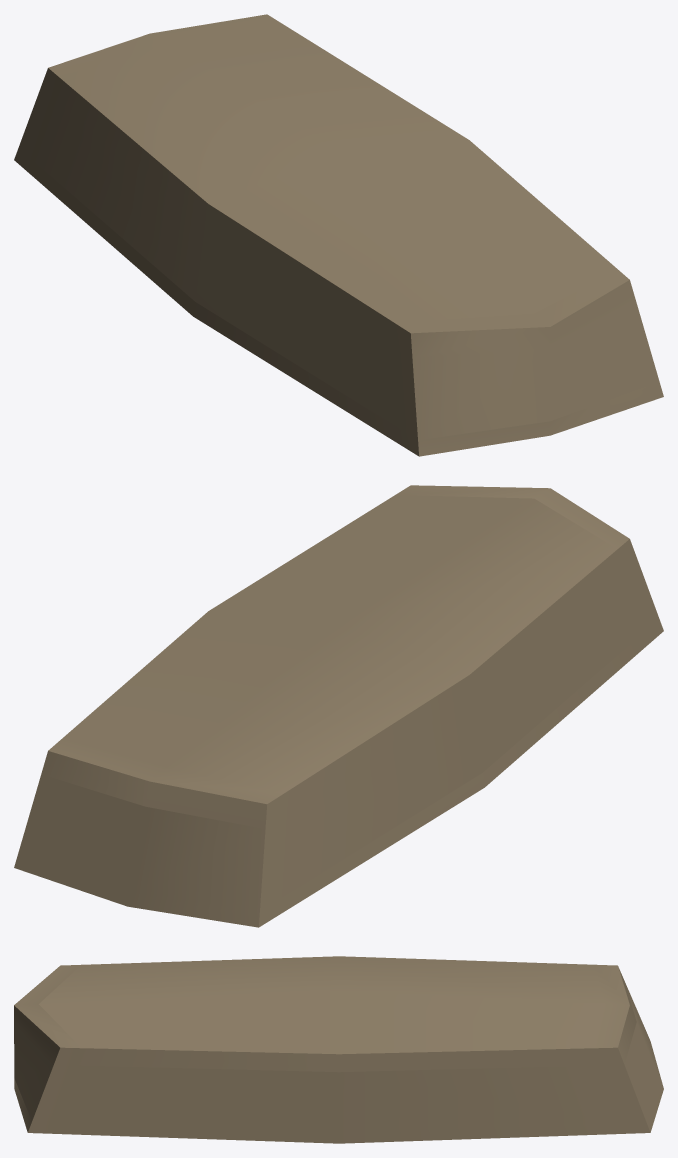
File: Egg_Carton_Lid_MDL.fbx
3 views of the same model, one above another, from view 1: azimuth 30°, elevation 25°; view 2: azimuth 150°, elevation 25°; view 3: azimuth 270°, elevation 25° (orthographic). The views are drawn at different scales.
Visible parts, largest first — view 1: Carton_Lid; view 2: Carton_Lid; view 3: Carton_Lid.
Part boxes in pixels (<box>): Carton_Lid: <box>14,14,663,456</box>; Carton_Lid: <box>14,485,663,927</box>; Carton_Lid: <box>14,956,663,1143</box>.
Bounding box in the file's own units: 20.92 × 8.77 × 52.52.
